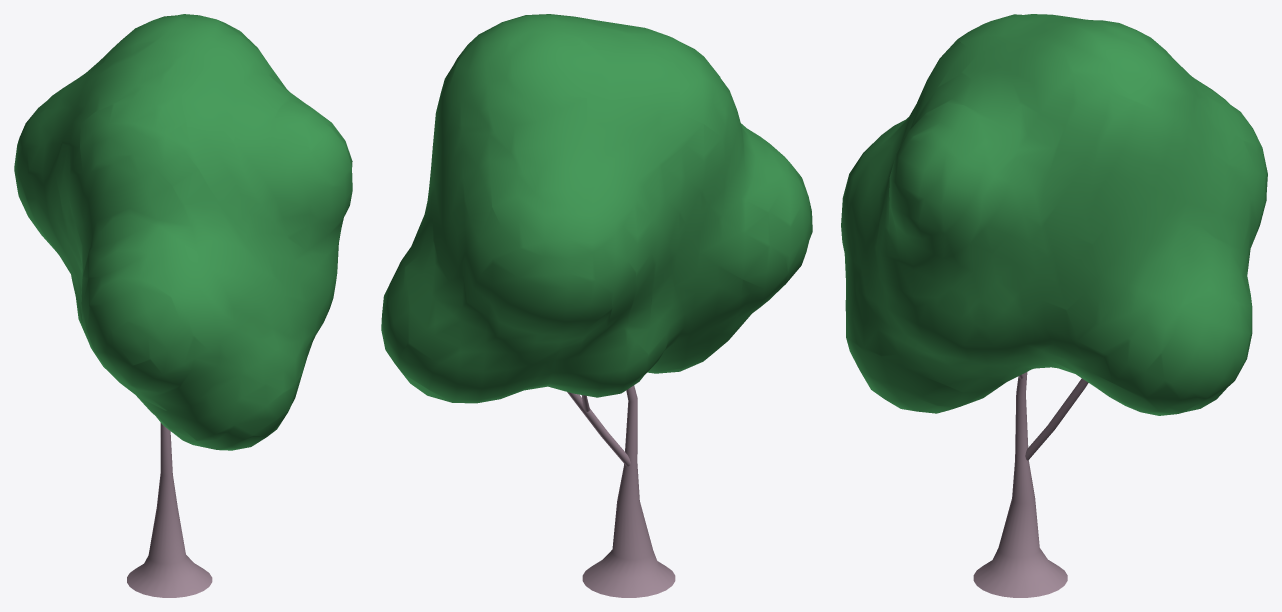
Rendered from tree05.fbx.
3 renders of one model, left to right at view 1: azimuth 30°, elevation 25°; view 2: azimuth 150°, elevation 25°; view 3: azimuth 270°, elevation 25°, orthographic. The views are drawn at different scales.
Visible parts, largest first — view 1: Wood_1_243; view 2: Wood_1_243; view 3: Wood_1_243.
Part boxes in pixels (x1=…): Wood_1_243: x1=14, y1=14, x2=352, y2=597; Wood_1_243: x1=381, y1=14, x2=812, y2=597; Wood_1_243: x1=841, y1=14, x2=1267, y2=597.
Size of the model in its own units: 196 by 364 by 245.
